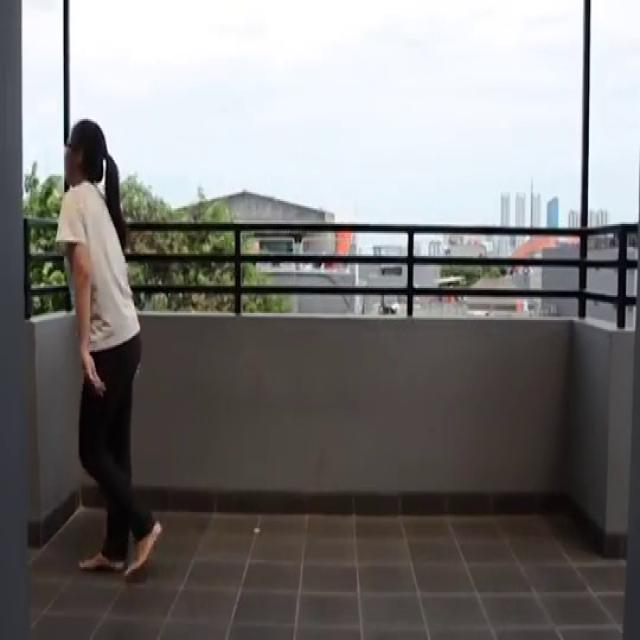normal: (49, 105, 170, 587)
